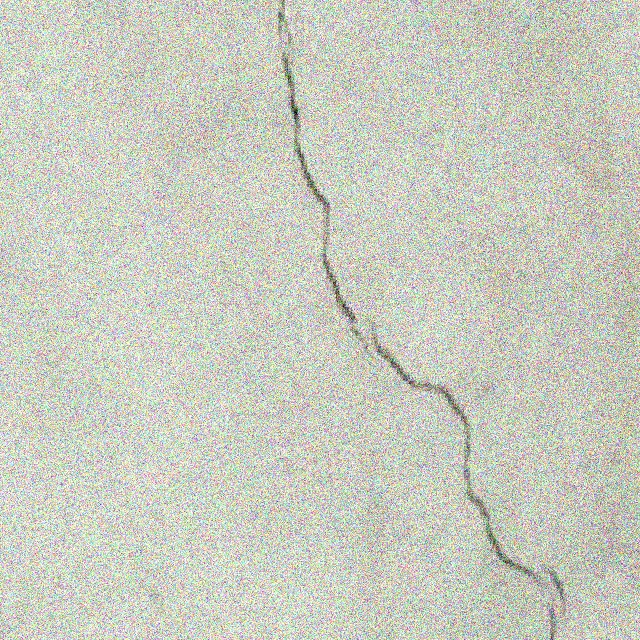SurfaceCrack: (248, 0, 584, 640)
